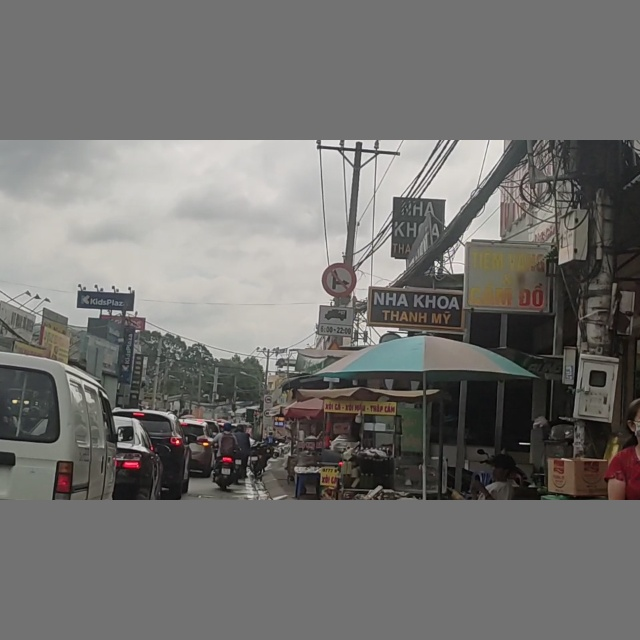P.139: (323, 264, 355, 297)
S.505a*Xe tai: (319, 306, 353, 337)
